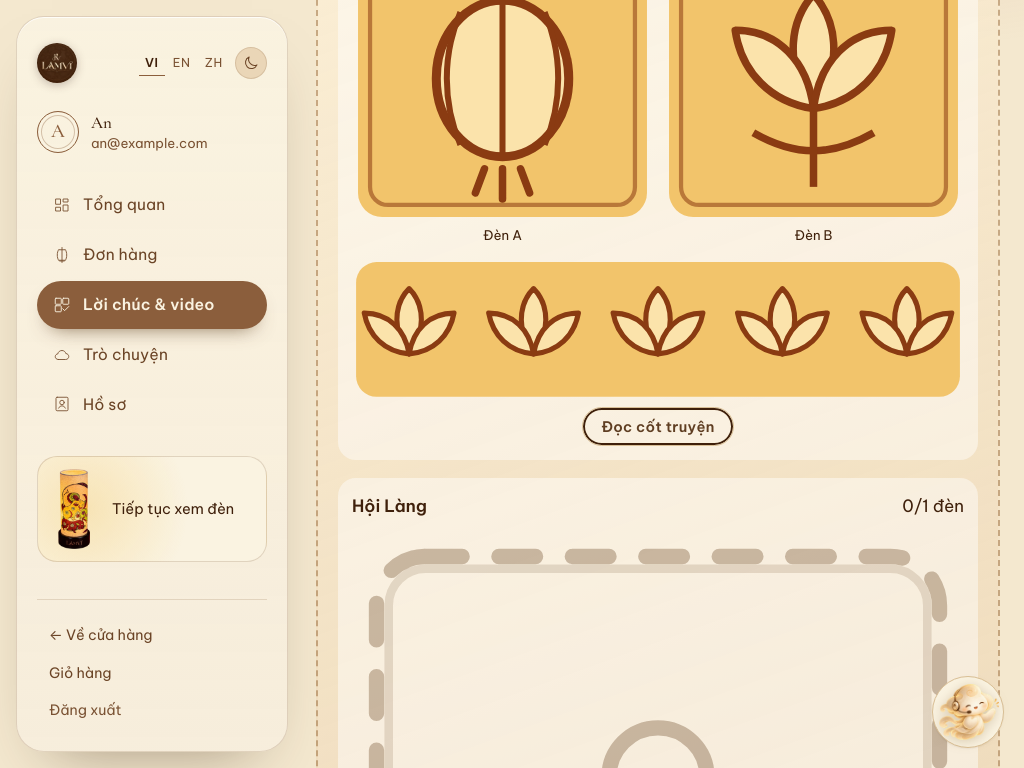
Test case: Quilt: phần thưởng › xem lại (replay) không ghi thêm vào seen
(page scrolled)
What coordinates should you click on to do the following:
click the button "Đọc cốt truyện"
I would click on:
 (658, 427)
Its box is [582,407,734,446].
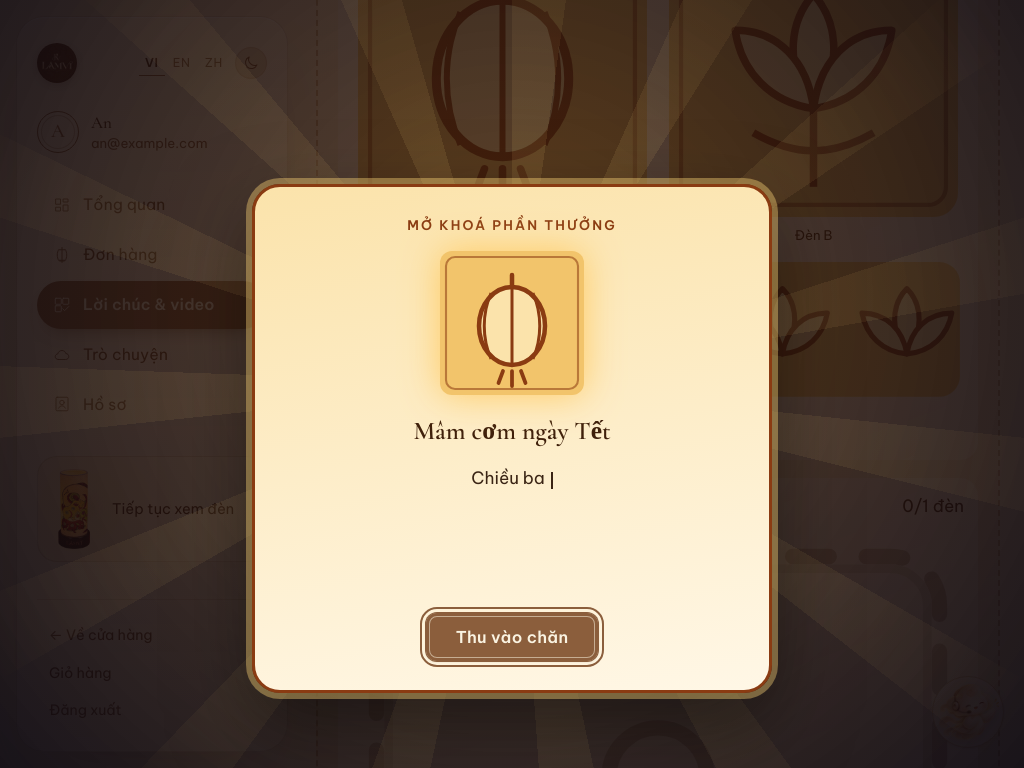
Expected: the heading "Mâm cơm ngày Tết" is shown, [413,410,611,452]
What coordinates should you click on to do the following:
click the button "Thu vào chăn"
I would click on:
 (512, 638)
Its box is [425,612,599,662].
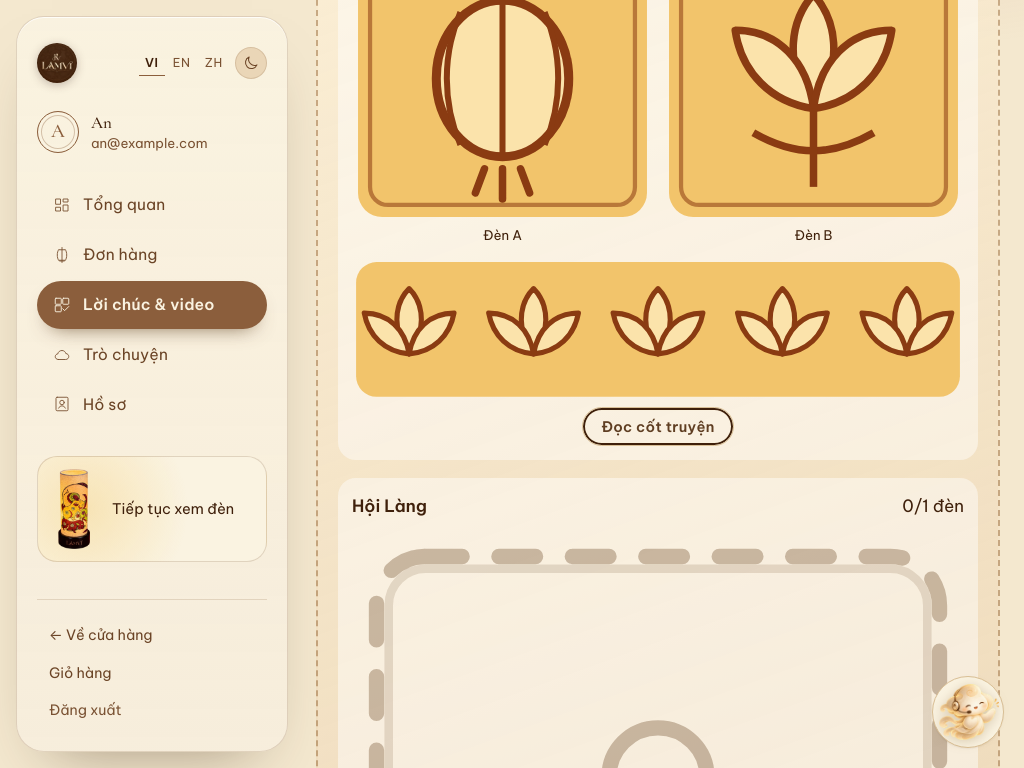
Expected: the dialog is gone
